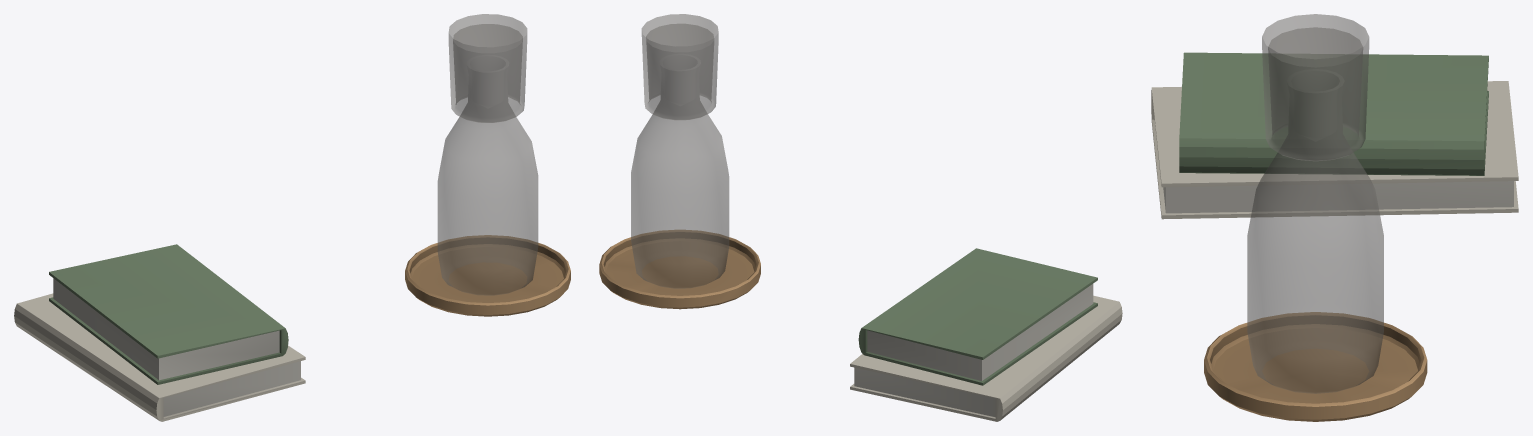
File: decor_d_nightstand_guest_b.gltf
3 views of the same model, side by side, from view 1: azimuth 30°, elevation 25°; view 2: azimuth 150°, elevation 25°; view 3: azimuth 270°, elevation 25° (orthographic). The views are drawn at different scales.
Visible parts, largest first — view 1: DecorD_Nightstand_Guest_B_Glass_NoCollide, DecorD_Nightstand_Guest_B_Sage_NoCollide, DecorD_Nightstand_Guest_B_Bronze_NoCollide, DecorD_Nightstand_Guest_B_Linen_NoCollide, DecorD_Nightstand_Guest_B_Paper_NoCollide; view 2: DecorD_Nightstand_Guest_B_Glass_NoCollide, DecorD_Nightstand_Guest_B_Sage_NoCollide, DecorD_Nightstand_Guest_B_Bronze_NoCollide, DecorD_Nightstand_Guest_B_Linen_NoCollide, DecorD_Nightstand_Guest_B_Paper_NoCollide; view 3: DecorD_Nightstand_Guest_B_Glass_NoCollide, DecorD_Nightstand_Guest_B_Sage_NoCollide, DecorD_Nightstand_Guest_B_Bronze_NoCollide, DecorD_Nightstand_Guest_B_Linen_NoCollide, DecorD_Nightstand_Guest_B_Paper_NoCollide.
Part boxes in pixels (bbox=[...]): DecorD_Nightstand_Guest_B_Glass_NoCollide: bbox=[437, 14, 538, 295]; DecorD_Nightstand_Guest_B_Sage_NoCollide: bbox=[49, 244, 288, 384]; DecorD_Nightstand_Guest_B_Bronze_NoCollide: bbox=[405, 235, 570, 316]; DecorD_Nightstand_Guest_B_Linen_NoCollide: bbox=[14, 293, 305, 421]; DecorD_Nightstand_Guest_B_Paper_NoCollide: bbox=[53, 278, 300, 416]; DecorD_Nightstand_Guest_B_Glass_NoCollide: bbox=[631, 14, 729, 288]; DecorD_Nightstand_Guest_B_Sage_NoCollide: bbox=[858, 248, 1097, 385]; DecorD_Nightstand_Guest_B_Bronze_NoCollide: bbox=[599, 230, 760, 309]; DecorD_Nightstand_Guest_B_Linen_NoCollide: bbox=[850, 295, 1122, 421]; DecorD_Nightstand_Guest_B_Paper_NoCollide: bbox=[854, 284, 1093, 417]; DecorD_Nightstand_Guest_B_Glass_NoCollide: bbox=[1247, 14, 1383, 393]; DecorD_Nightstand_Guest_B_Sage_NoCollide: bbox=[1179, 52, 1488, 175]; DecorD_Nightstand_Guest_B_Bronze_NoCollide: bbox=[1204, 312, 1427, 421]; DecorD_Nightstand_Guest_B_Linen_NoCollide: bbox=[1151, 81, 1518, 219]; DecorD_Nightstand_Guest_B_Paper_NoCollide: bbox=[1163, 181, 1513, 213].
Bounding box in the file's own units: 0.4955 × 0.252 × 0.2467.
